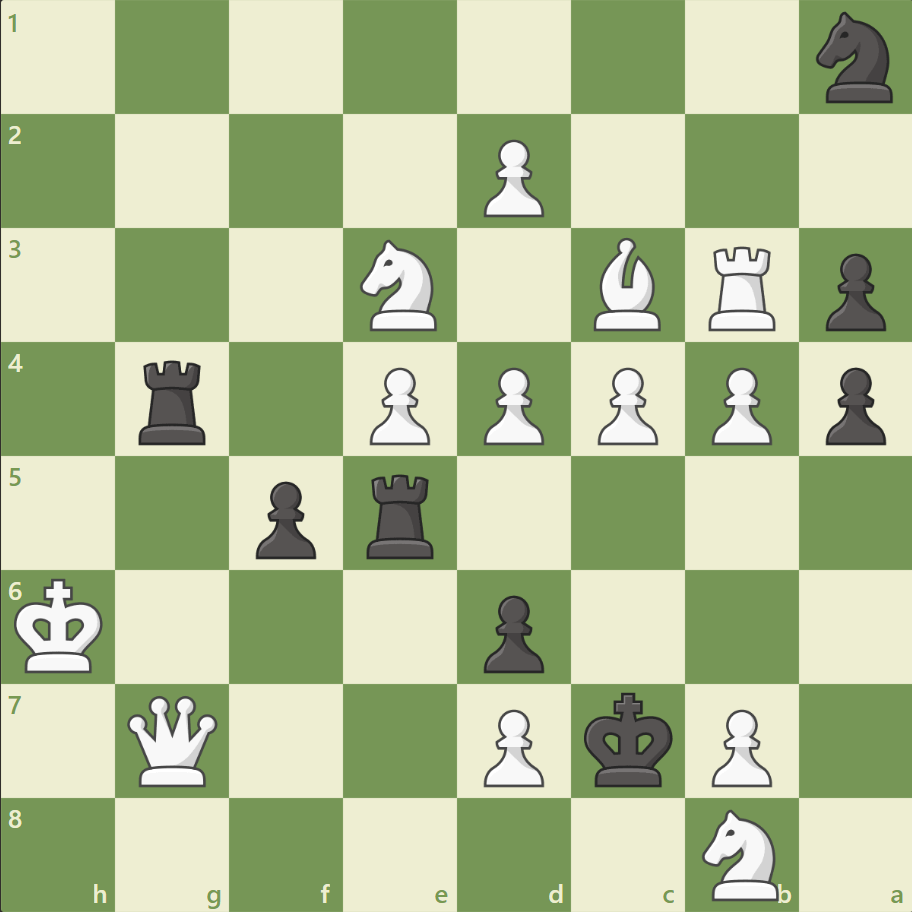B: (585, 233, 669, 336)
K: (11, 571, 111, 679)
N: (351, 234, 449, 337), (692, 802, 789, 904)
P: (701, 700, 776, 791), (474, 700, 549, 791), (701, 359, 776, 450), (474, 359, 549, 450), (474, 132, 549, 223), (588, 359, 662, 450), (361, 359, 435, 450)
Q: (124, 690, 223, 789)
R: (700, 239, 783, 336)
k: (579, 685, 679, 793)
n: (806, 7, 903, 110)
p: (474, 586, 549, 677), (247, 473, 322, 564), (815, 359, 889, 450), (815, 246, 889, 337)
r: (360, 466, 442, 563), (133, 352, 215, 449)
